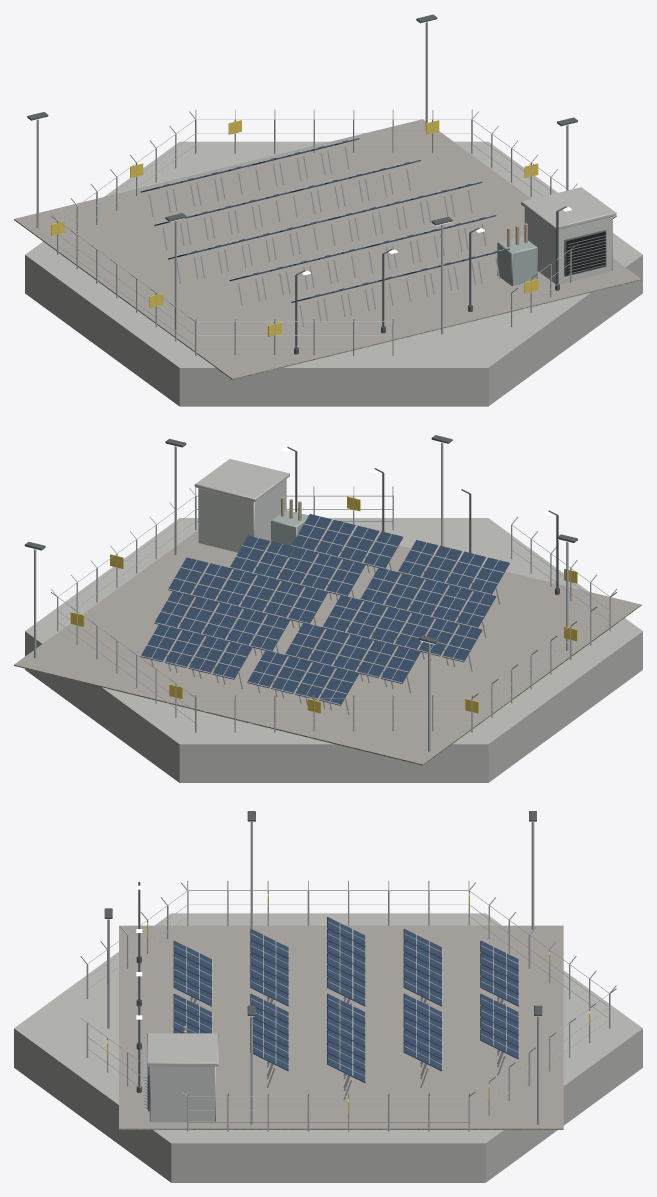
Rendered from solarFarm.glb.
The picture shows the model from 3 angles, top to bottom: view 1: azimuth 30°, elevation 25°; view 2: azimuth 150°, elevation 25°; view 3: azimuth 270°, elevation 25°; orthographic projection.
Parts seen in each view (by area): view 1: gravel, wall_concrete, metal, cladding, solar, steel_dark, hazard, dark; view 2: gravel, wall_concrete, solar, metal, cladding, steel_dark, hazard, turf; view 3: gravel, wall_concrete, solar, metal, cladding, steel_dark.
Part boxes in pixels (left/top/right/bottom): gravel: left=14, top=119, right=641, bottom=379; wall_concrete: left=25, top=141, right=642, bottom=406; metal: left=36, top=22, right=616, bottom=355; cladding: left=524, top=207, right=612, bottom=283; solar: left=140, top=138, right=509, bottom=302; steel_dark: left=27, top=14, right=606, bottom=354; hazard: left=51, top=120, right=538, bottom=336; dark: left=566, top=232, right=605, bottom=275; gravel: left=14, top=528, right=641, bottom=765; wall_concrete: left=25, top=459, right=642, bottom=782; solar: left=140, top=514, right=509, bottom=705; metal: left=34, top=442, right=616, bottom=751; cladding: left=198, top=479, right=286, bottom=552; steel_dark: left=24, top=435, right=577, bottom=644; hazard: left=70, top=496, right=577, bottom=713; turf: left=14, top=605, right=641, bottom=765; gravel: left=119, top=925, right=563, bottom=1129; wall_concrete: left=14, top=913, right=642, bottom=1182; solar: left=173, top=917, right=518, bottom=1082; metal: left=80, top=822, right=616, bottom=1131; cladding: left=149, top=1066, right=215, bottom=1122; steel_dark: left=104, top=811, right=542, bottom=1111.
Bounding box in the file's own units: 21.3 × 6.7 × 24.6.
